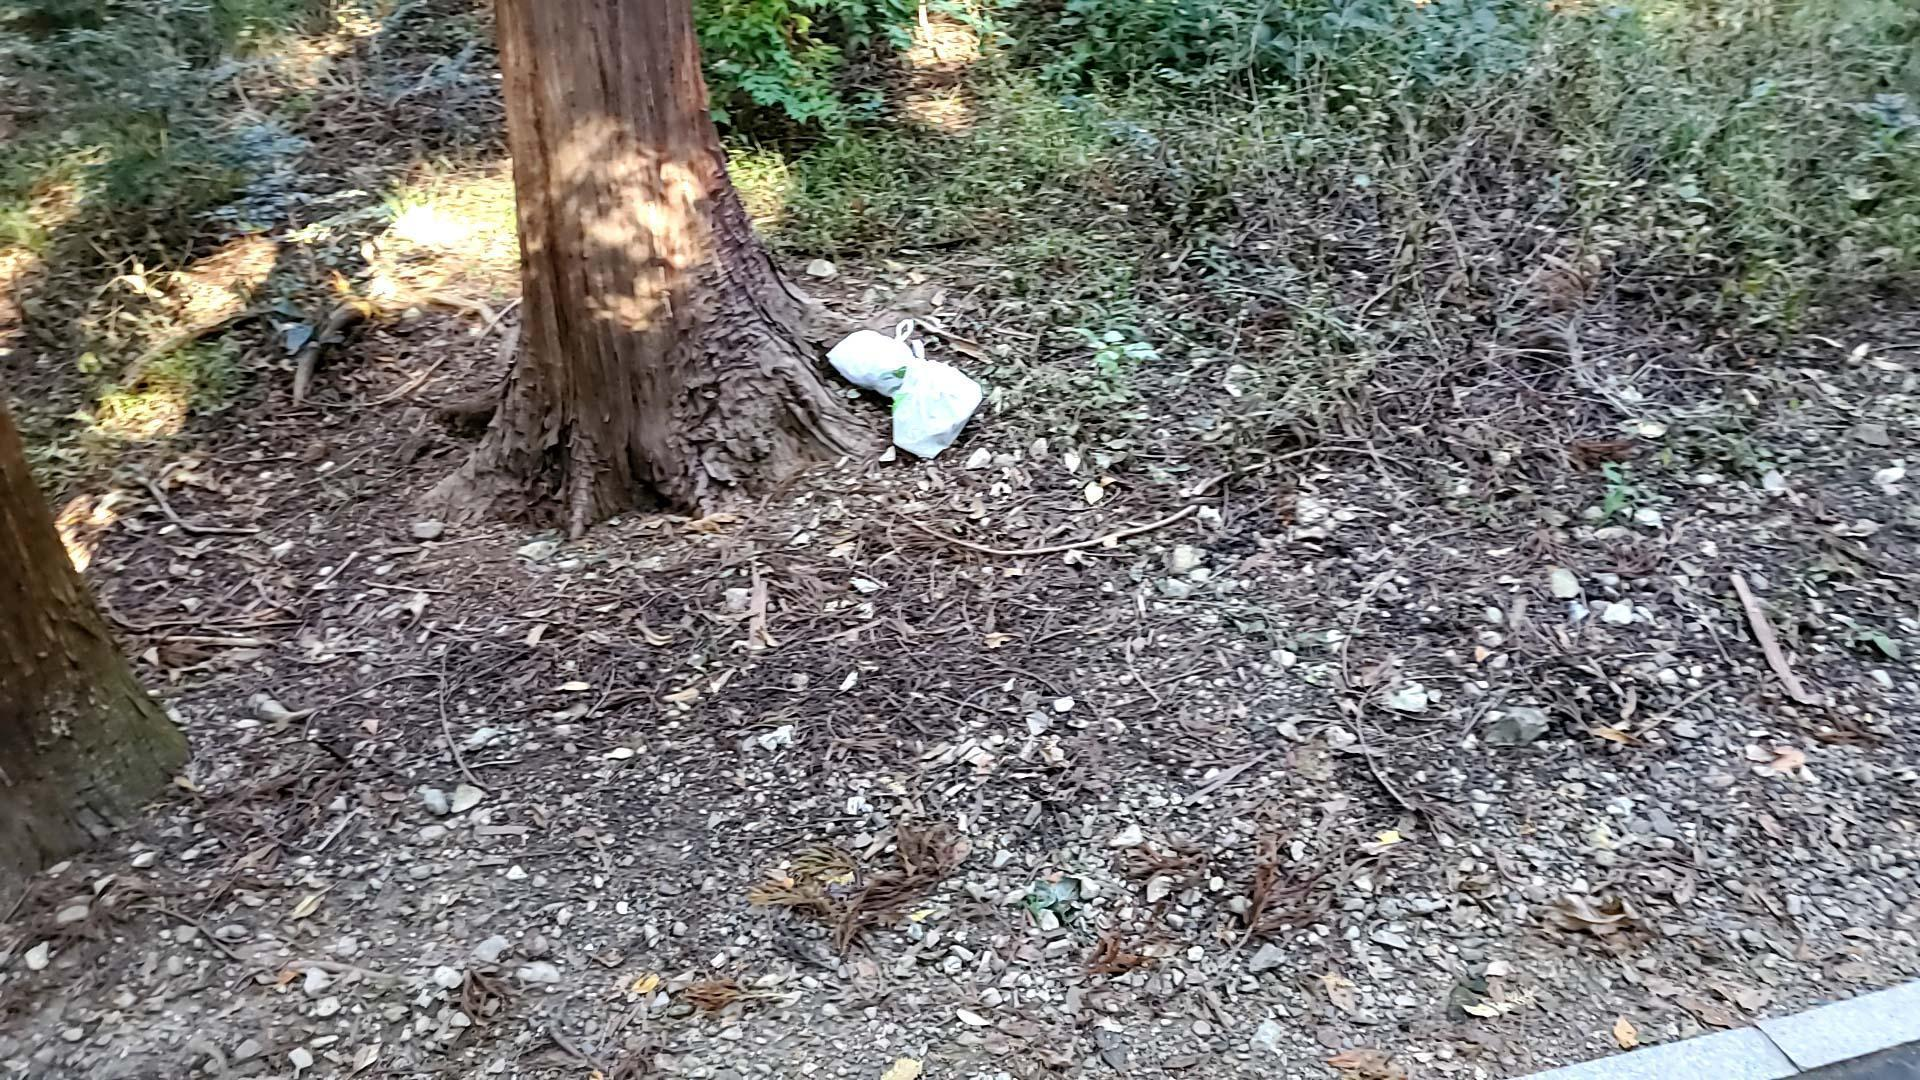white_bag: (887, 338, 984, 463), (820, 318, 931, 402)
